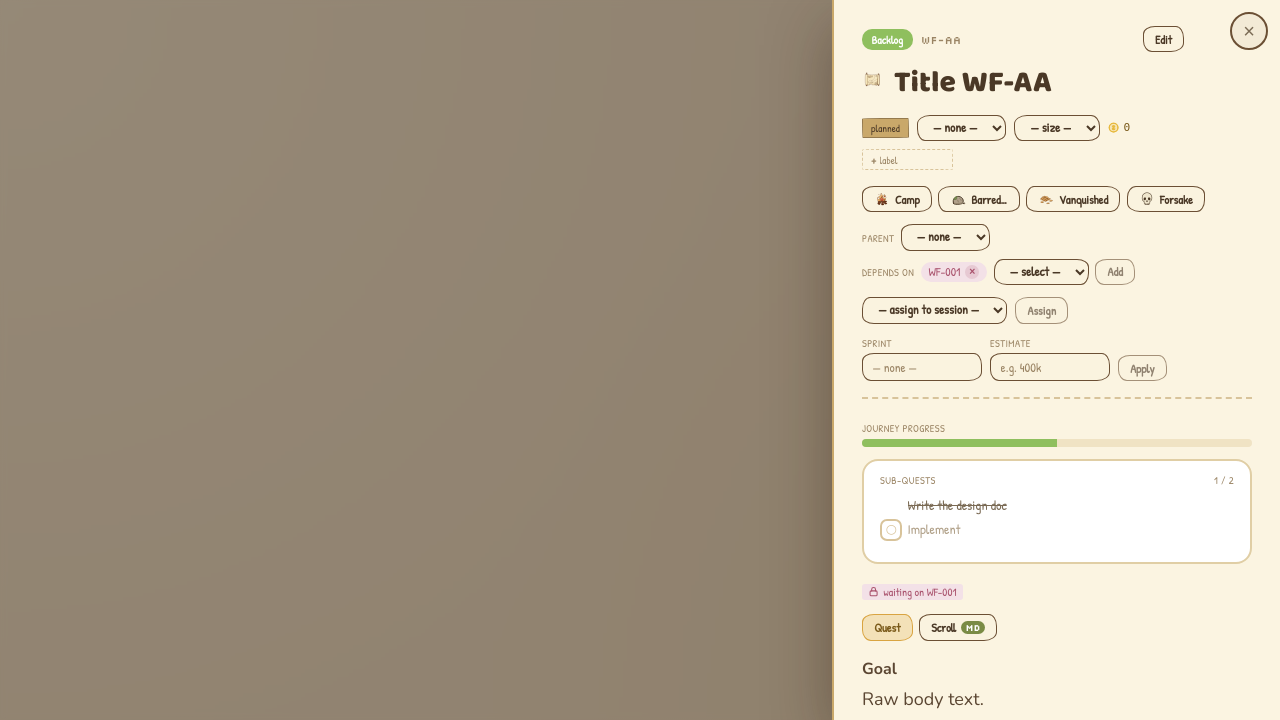
Test: <CardDetailDrawer/> › gates Journey progress + Sub-quests panel + locked pill to the Quest view — absent under Scroll (impl-review round 1)
expect the heading "Title WF-AA" is shown: met, box [894,59,1052,107]
expect the element with class "card-drawer__journey" is shown: met, box [862,415,1252,447]
Switch to Scroll — all three gone, only the markdown card remains.
Click the button "Scroll MD". click: (958, 628)
box: [919,614,997,641]
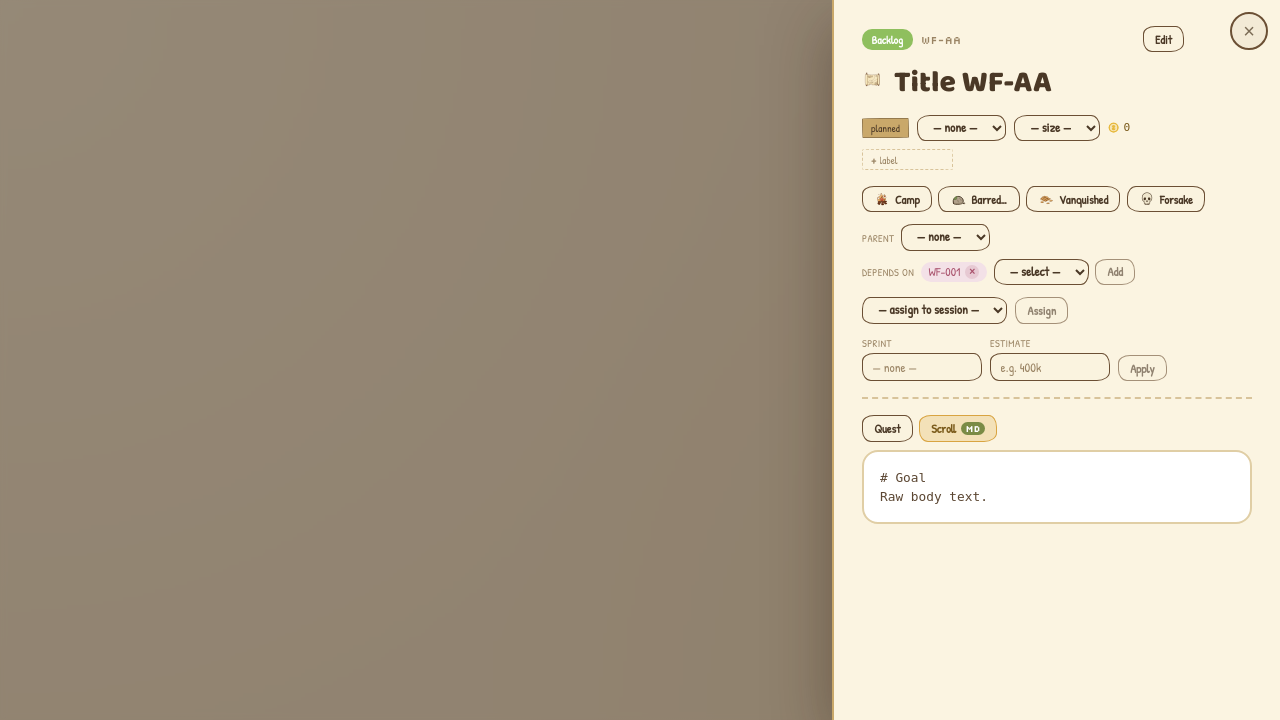
expect the element with class "card-drawer__journey" is gone: met
expect the heading "Sub-quests" is gone: met
expect the text "waiting on WF-001" is gone: met
Switch back to Quest — all three return.
Click the button "Quest". click: (887, 428)
box: [862,415,913,442]
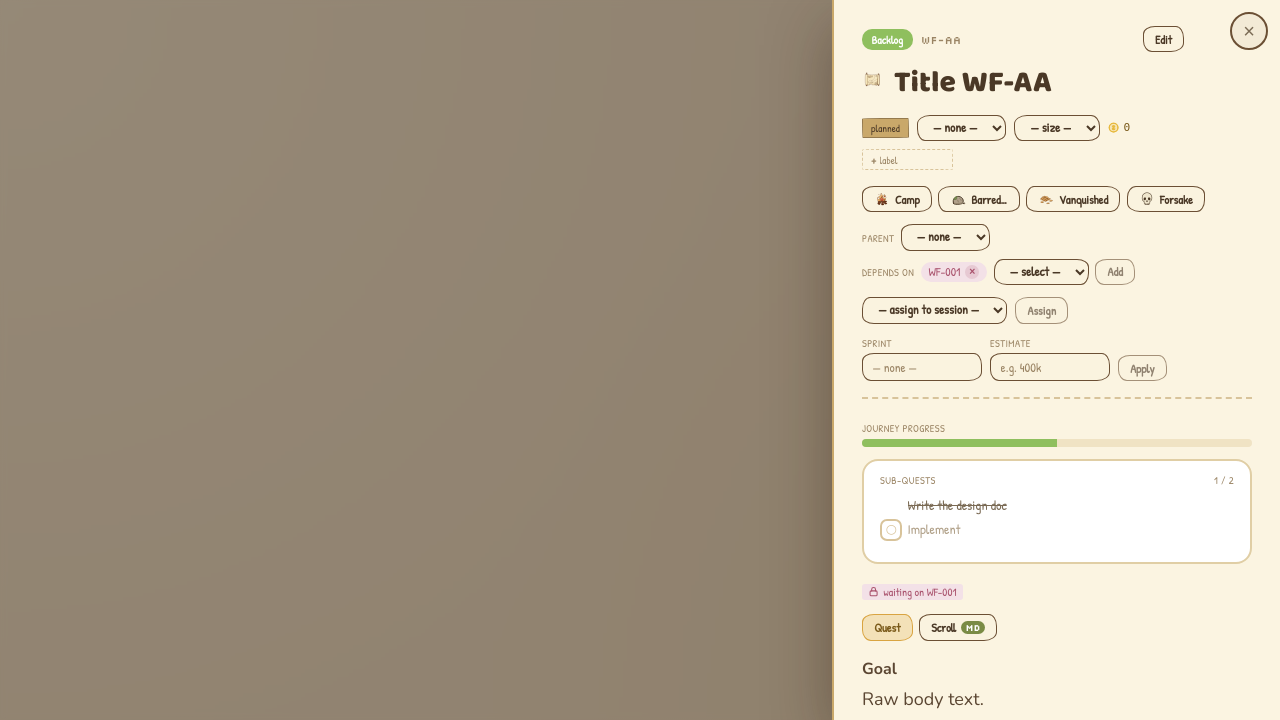
expect the element with class "card-drawer__journey" is shown: met, box [862,415,1252,447]
expect the heading "Sub-quests" is shown: met, box [880,473,936,487]
expect the text "waiting on WF-001" is shown: met, box [862,584,963,600]
